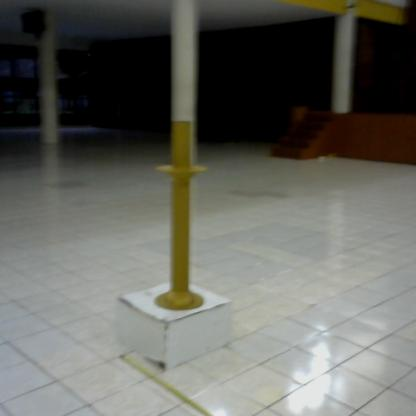pole: (151, 118, 212, 318)
